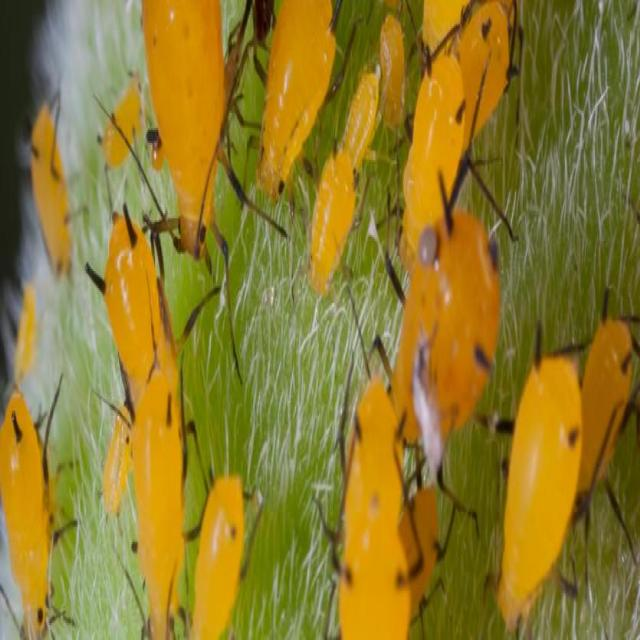Aphid-Grown-: (485, 342, 586, 624), (1, 356, 77, 638), (98, 205, 182, 400), (302, 135, 372, 323)
